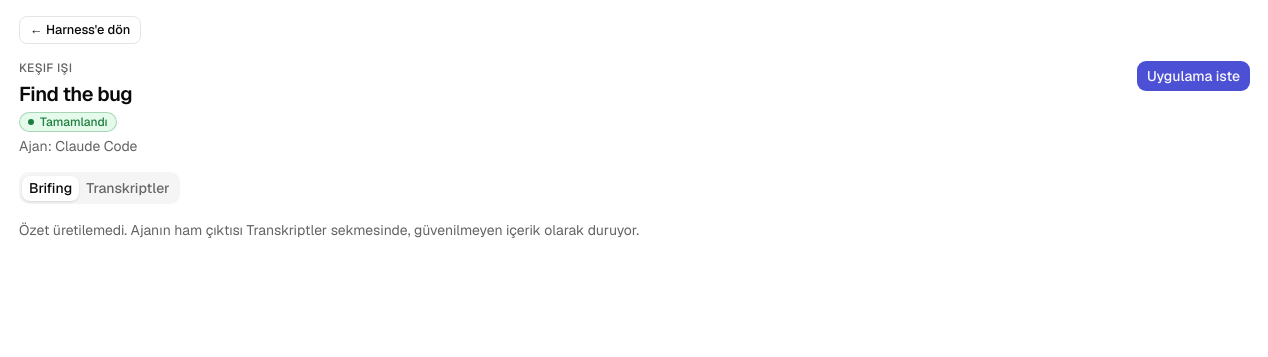
Test: HarnessJobDetail › still renders the raw transcript when summarization failed but a transcript was preserved
Check: the text "Özet üretilemedi" is shown, box [19,221,639,239]
Click the tab "Transkriptler".
click(128, 188)  # box [79,176,177,200]
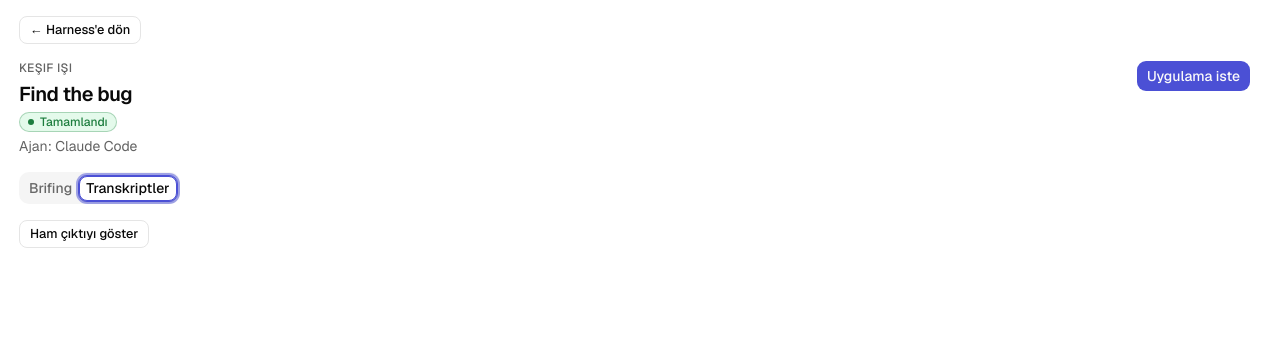
Click the button "Ham çıktıyı göster".
click(84, 234)  # box [19,220,149,248]
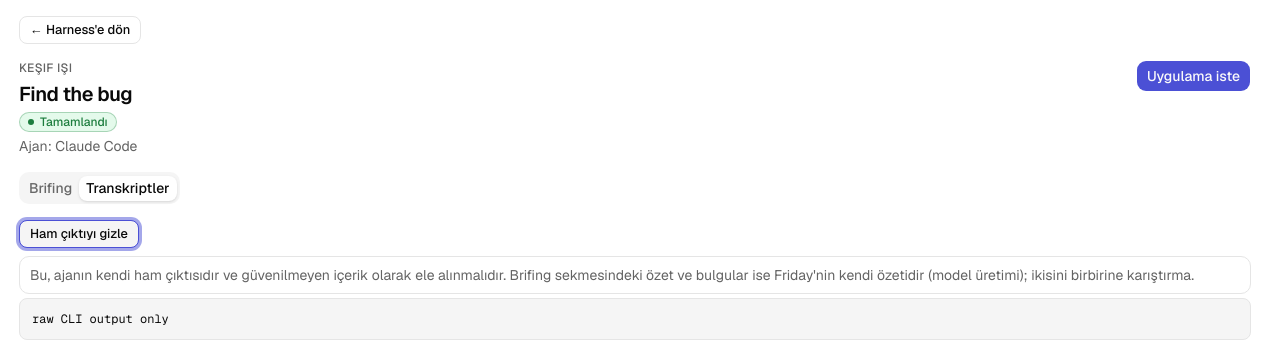
Check: the text "raw CLI output only" is shown, box [19,298,1251,340]
